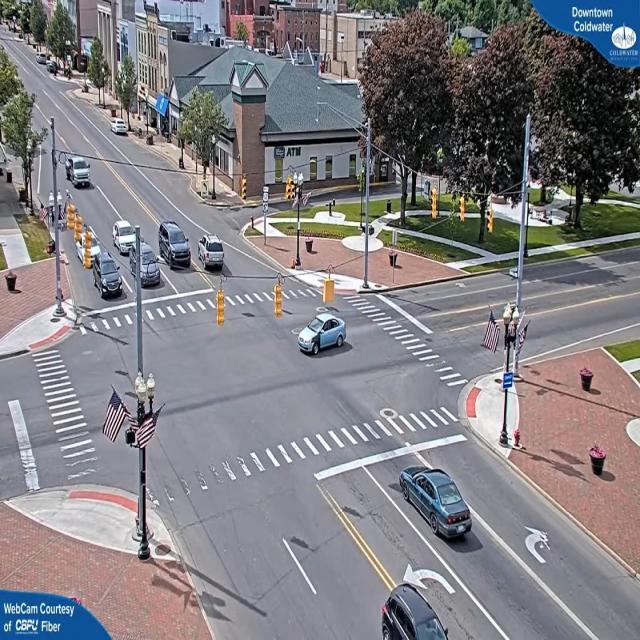car: (398, 461, 470, 527), (296, 308, 348, 356), (158, 222, 192, 268), (93, 255, 123, 296), (196, 233, 226, 271), (137, 247, 162, 288), (114, 222, 140, 254), (112, 120, 128, 136)
